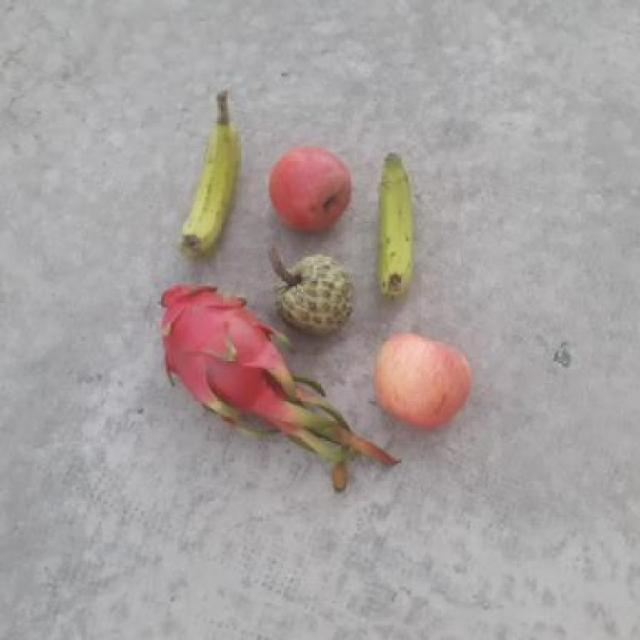apple: (374, 330, 475, 432), (265, 144, 357, 235)
banana: (177, 107, 246, 261), (370, 148, 428, 304)
dragon fruit: (156, 279, 276, 421)
sugar apple: (271, 250, 354, 339)
